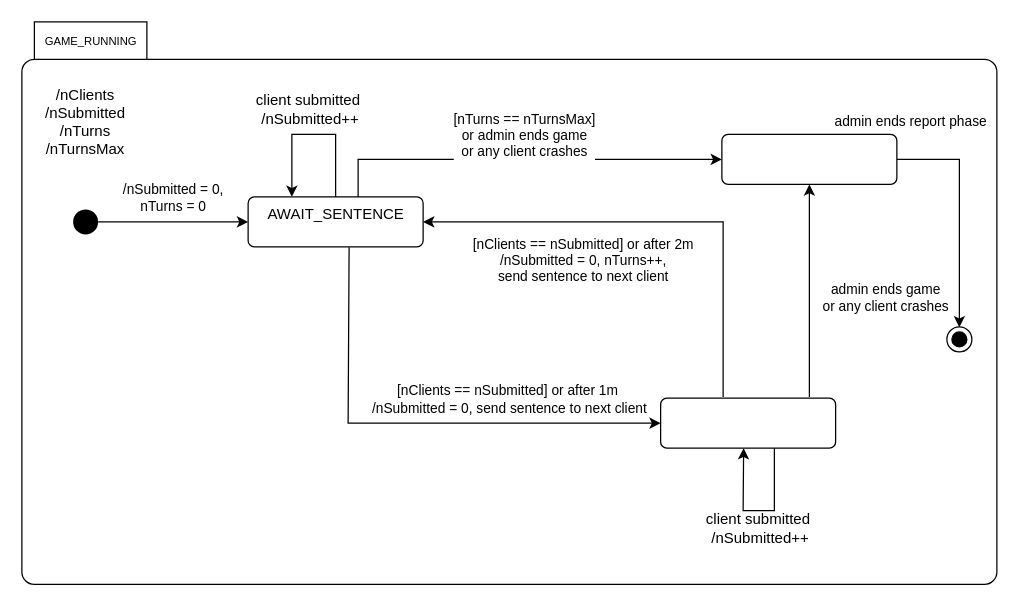
Some shapes in this 1019 by 606 pixel diagram are drawn without their labels. The shapes that lost their labels are listed below. From the top down, each one's centre as x and y in pixels, then its label:
point 809,158: SHOWING_REPORT
point 747,422: AWAIT_DRAW
